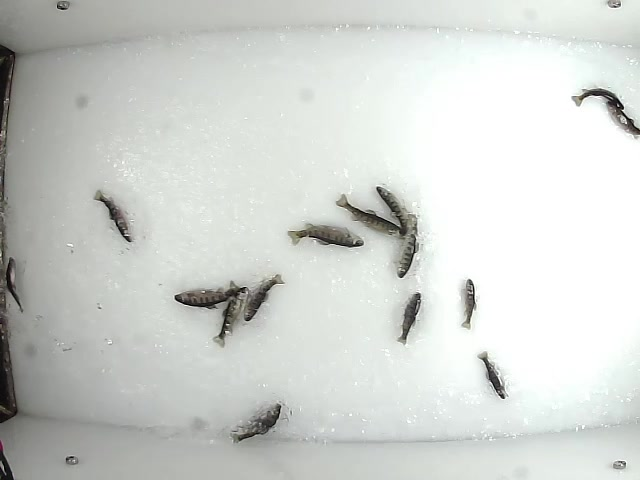fish: (333, 190, 411, 238), (228, 401, 283, 447), (211, 284, 249, 349), (284, 220, 367, 248), (173, 279, 243, 310), (239, 272, 283, 320), (376, 181, 412, 239), (90, 190, 131, 240), (393, 212, 421, 281), (476, 349, 508, 402), (602, 96, 640, 138), (395, 290, 422, 347), (5, 255, 28, 317), (570, 87, 624, 110), (459, 276, 478, 332)
